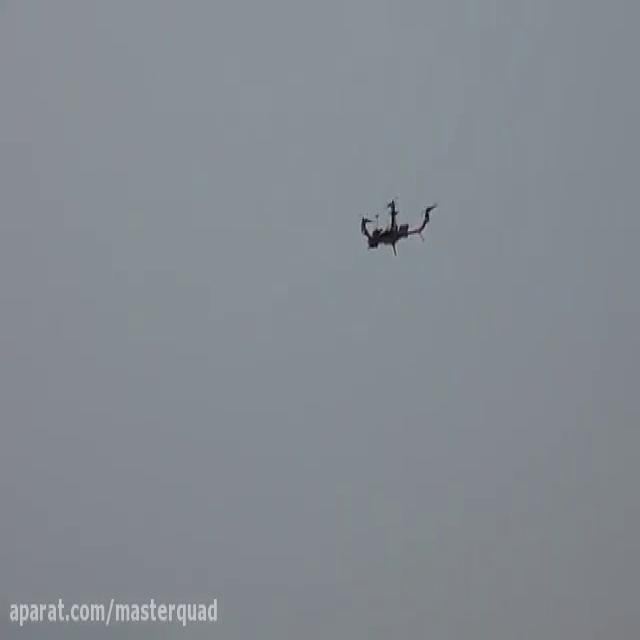drone: (353, 188, 440, 258)
